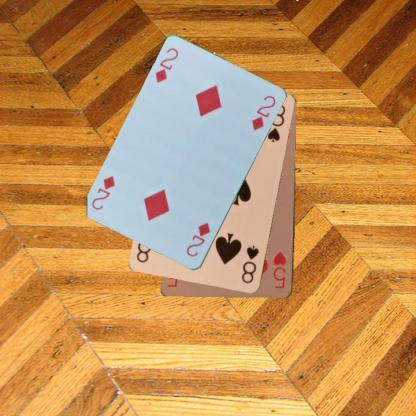2d: (153, 45, 180, 84), (184, 220, 211, 258)
5h: (271, 249, 288, 290)
8s: (239, 243, 261, 285)
